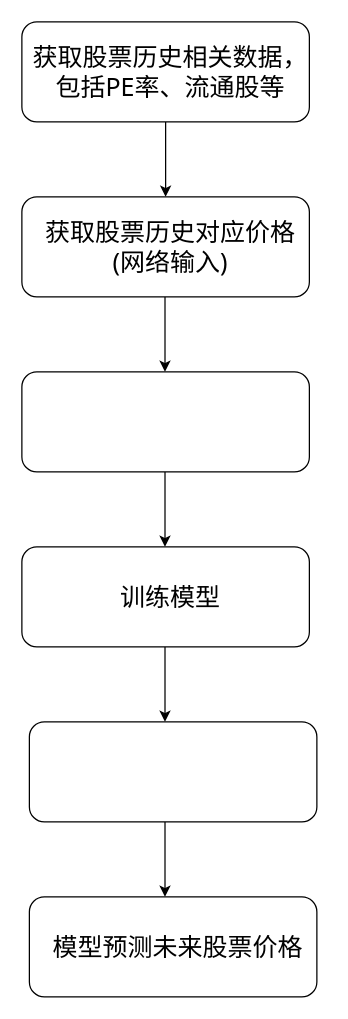
The diagram is 348 pixels wide and 1019 high, and some of its shapes have lost their labels. The shapes that lost their labels are listed below. From the top down, each one's centre as x and y in pixels, then its label:
At (165,421): "数据预处理".
At (172,771): "测试模型".
